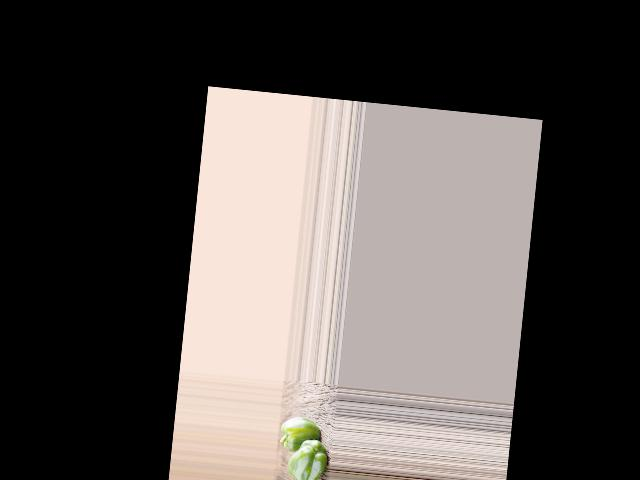bell_pepper: (285, 435, 327, 480)
